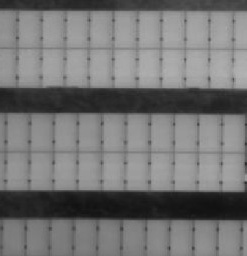solar: (24, 214, 53, 256), (47, 214, 76, 256), (72, 214, 101, 256), (95, 214, 124, 256), (121, 214, 150, 256), (15, 8, 44, 49), (39, 8, 68, 49), (63, 8, 92, 49), (87, 8, 116, 49), (110, 8, 139, 49), (135, 8, 164, 49), (159, 8, 188, 49), (183, 8, 212, 49), (207, 9, 236, 50), (207, 47, 236, 88), (182, 47, 211, 88), (158, 47, 187, 88), (134, 47, 163, 88), (110, 47, 139, 88), (85, 47, 114, 88), (61, 47, 90, 88), (38, 47, 67, 88), (14, 47, 43, 88), (3, 111, 32, 152), (27, 111, 56, 152), (50, 111, 79, 152), (74, 111, 103, 152), (99, 111, 128, 152), (123, 111, 152, 152), (147, 113, 176, 154), (171, 112, 200, 153), (195, 112, 224, 153), (218, 112, 247, 153), (218, 151, 247, 192), (195, 151, 224, 192), (171, 151, 200, 192), (147, 150, 176, 191), (123, 150, 152, 191), (99, 150, 128, 191), (76, 150, 105, 191), (51, 150, 80, 191), (27, 150, 56, 191), (3, 150, 32, 191), (1, 214, 29, 256)
